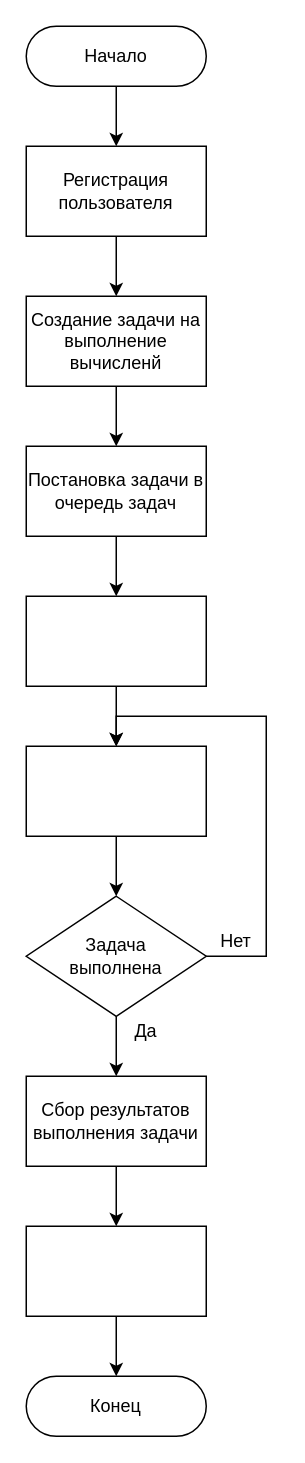
This 305x1463 diagram has some shape labels left out. Each missing label, with the centre of its shape:
"Выполнение задачи" goes at pixel 115 790.
"Запуск задачи" goes at pixel 115 640.
"Отправка результатов выполнения" goes at pixel 115 1270.
